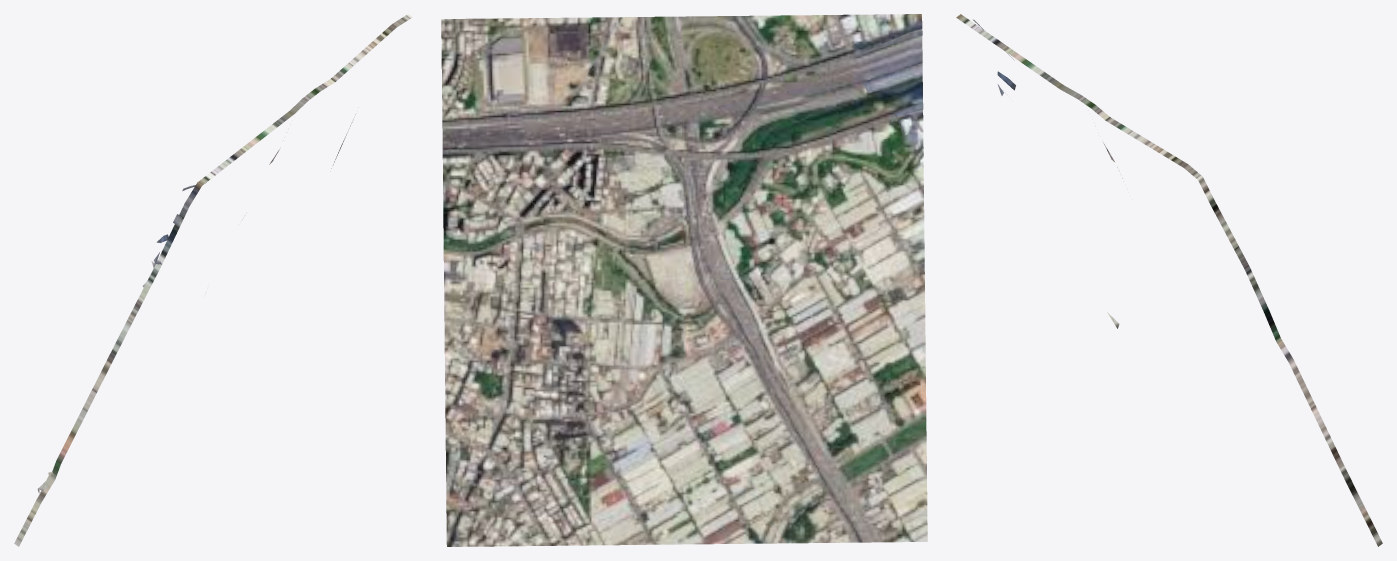
3 renders of one model, left to right at view 1: azimuth 30°, elevation 25°; view 2: azimuth 150°, elevation 25°; view 3: azimuth 270°, elevation 25°, orthographic. The views are drawn at different scales.
Size of the model in its own units: 1218 by 1118 by 1034.
Materials: 1 (1 with a texture image).
